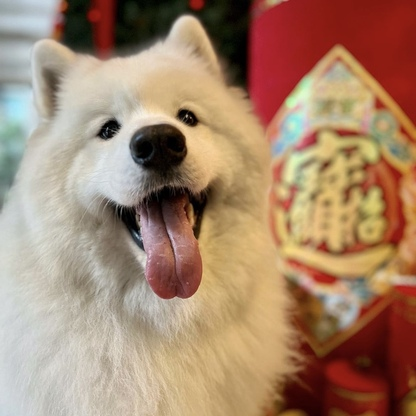samoyed: (1, 4, 297, 416)
